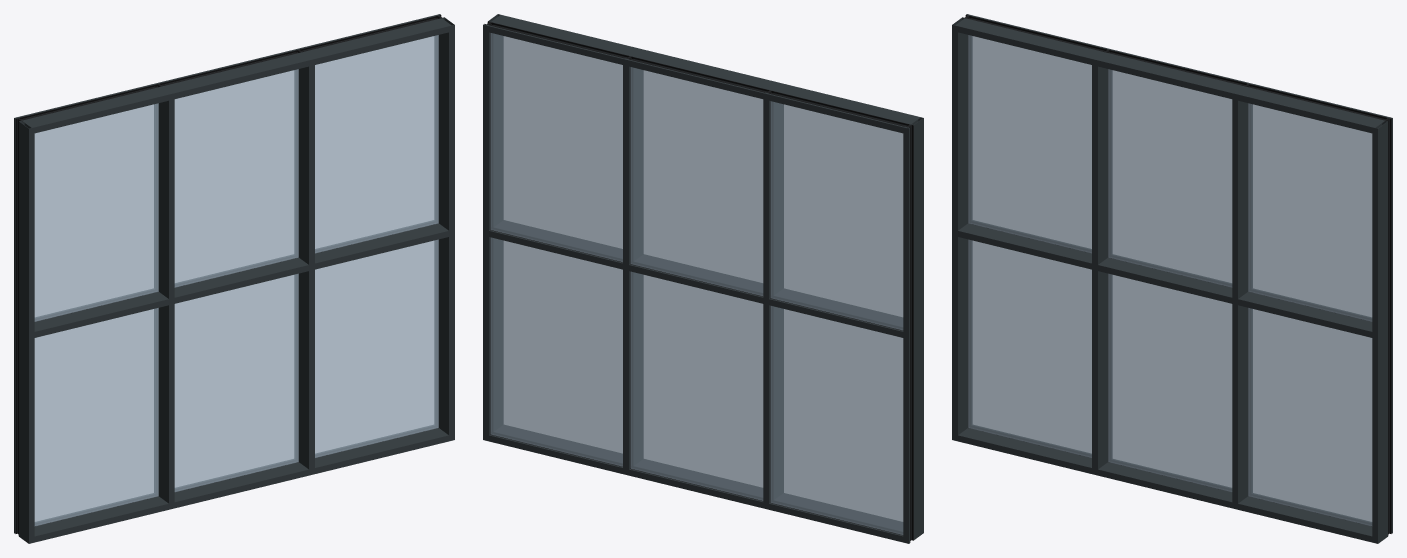
File: conceptwall-50.glb
3 views of the same model, side by side, from view 1: azimuth 30°, elevation 25°; view 2: azimuth 150°, elevation 25°; view 3: azimuth 330°, elevation 25° (orthographic).
Visible parts, largest first — view 1: ConceptWall 50; view 2: ConceptWall 50; view 3: ConceptWall 50.
Part boxes in pixels (x1,y1,x2,y2): ConceptWall 50: (14, 14, 454, 543); ConceptWall 50: (483, 14, 923, 543); ConceptWall 50: (952, 14, 1392, 543).
Size of the model in its own units: 3.65 by 3.4 by 0.22.
